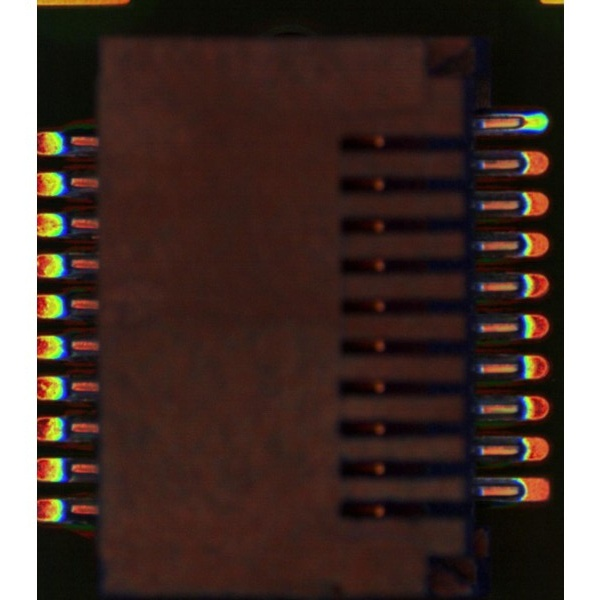Bad_qiaojiao: (484, 128, 517, 133), (481, 113, 519, 117)
